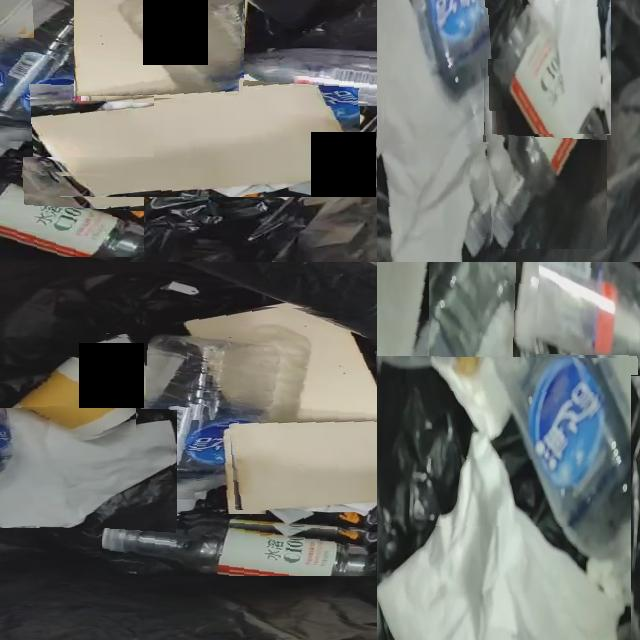bottle: (377, 262, 540, 578), (489, 12, 607, 249), (133, 338, 272, 514), (0, 0, 154, 152), (102, 520, 377, 576), (525, 262, 640, 369), (413, 0, 494, 144), (0, 179, 144, 257), (241, 51, 377, 106)
carton: (25, 84, 360, 197), (185, 306, 377, 420), (74, 0, 242, 96), (230, 420, 377, 510)
dixie_cup: (8, 359, 136, 438)
paper: (377, 357, 625, 640), (377, 0, 495, 262), (0, 408, 177, 528), (522, 0, 602, 134), (85, 337, 147, 396), (270, 501, 377, 524), (59, 176, 172, 197), (238, 75, 287, 103), (490, 60, 506, 111)
